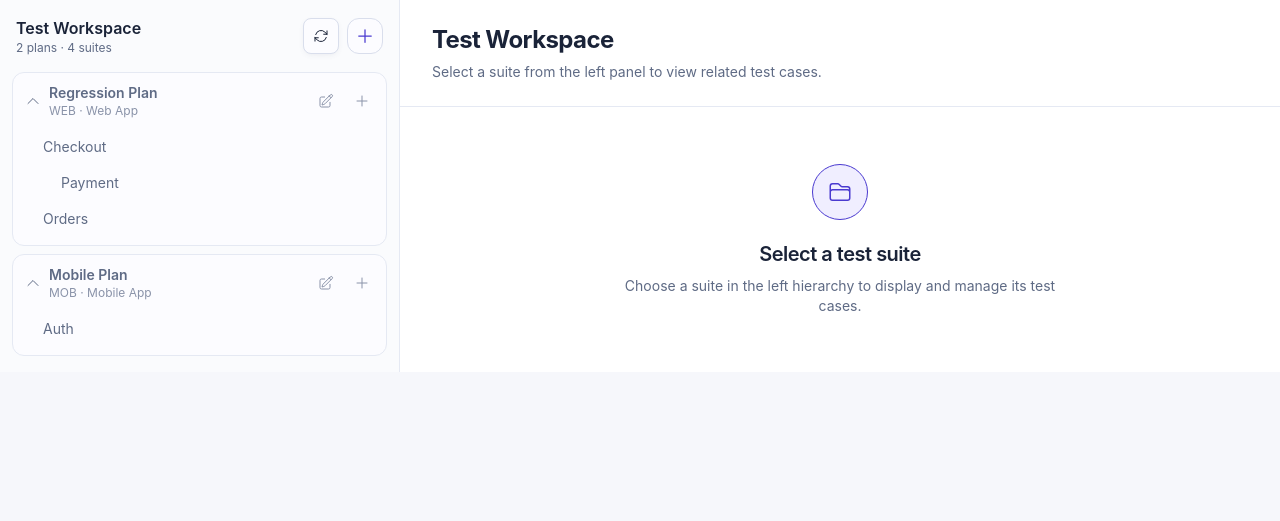
TestManagementWorkspace › coordinates inline create and rename modes without conflicts
Expected: the text "Regression Plan" is shown, [49,84,158,101]
Expected: the button "Payment" is shown, [13,165,386,201]
Click the button named "Create suite in Regression Plan".
click(362, 101)  # box [346,83,378,119]
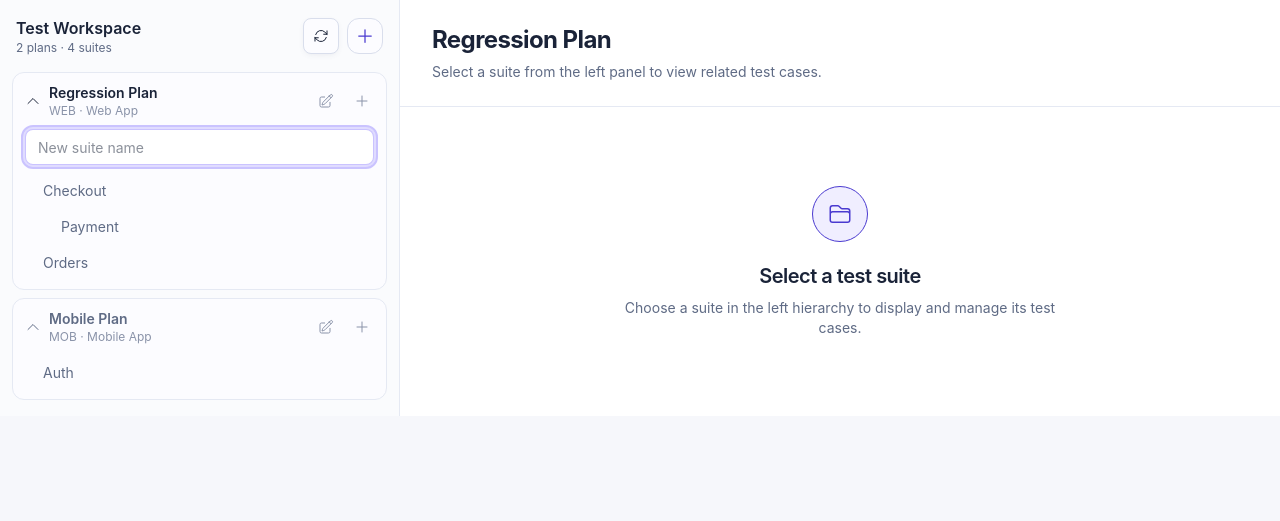
Expected: the field named "New suite name for Regression Plan" is shown, [25,129,374,165]
Double-click the button "Payment".
double_click(90, 226)  # box [13,209,386,245]
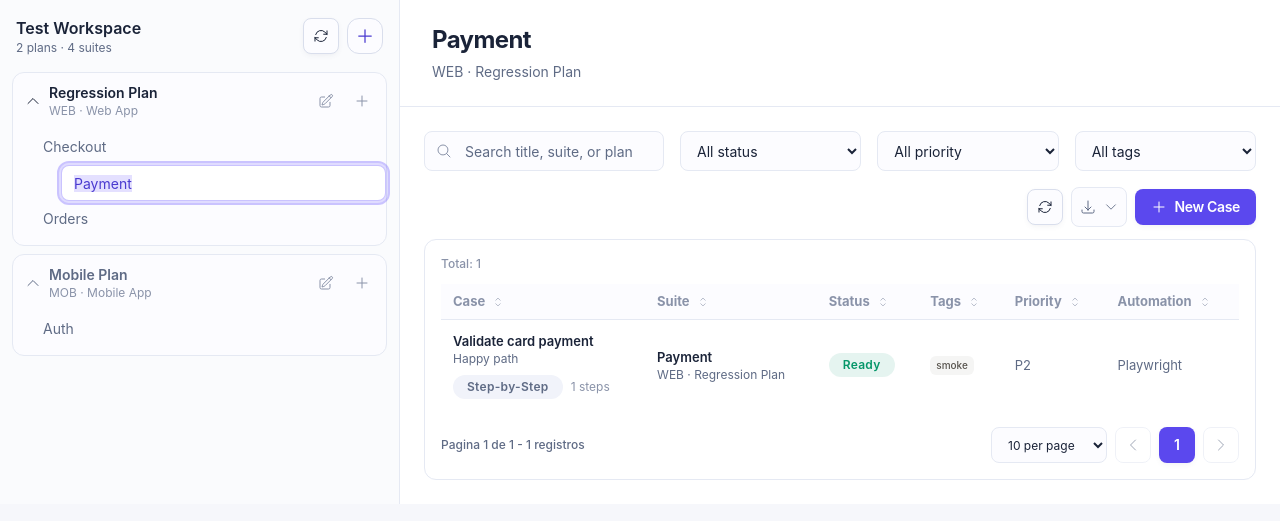
Expected: the field named "Edit suite name" is shown, [61,165,386,201]
Click the button named "Create suite in Regression Plan".
click(362, 101)  # box [346,83,378,119]
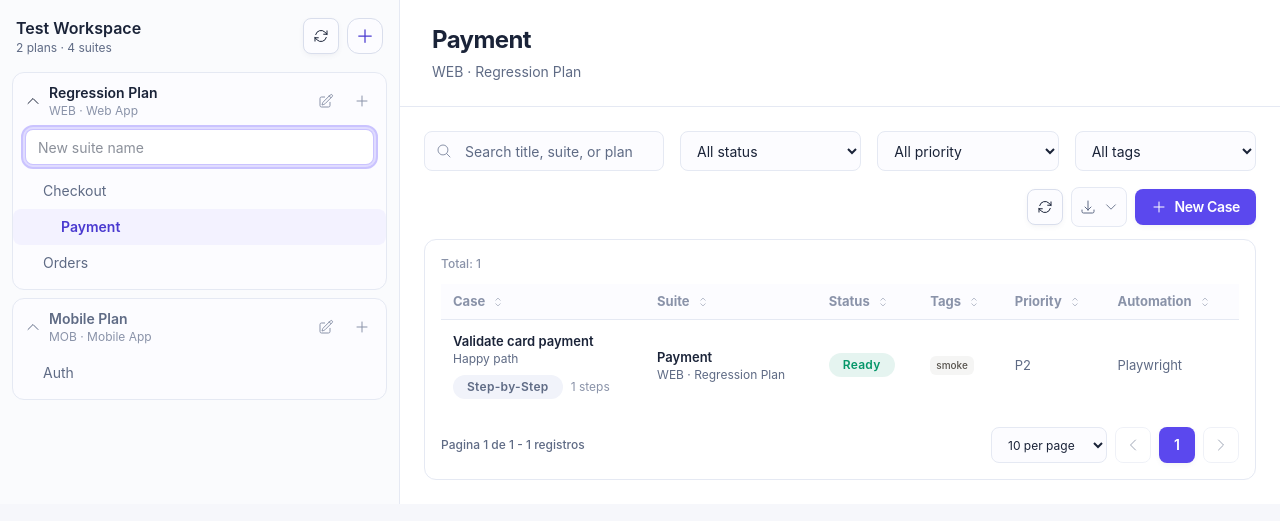
Expected: the field named "New suite name for Regression Plan" is shown, [25,129,374,165]
